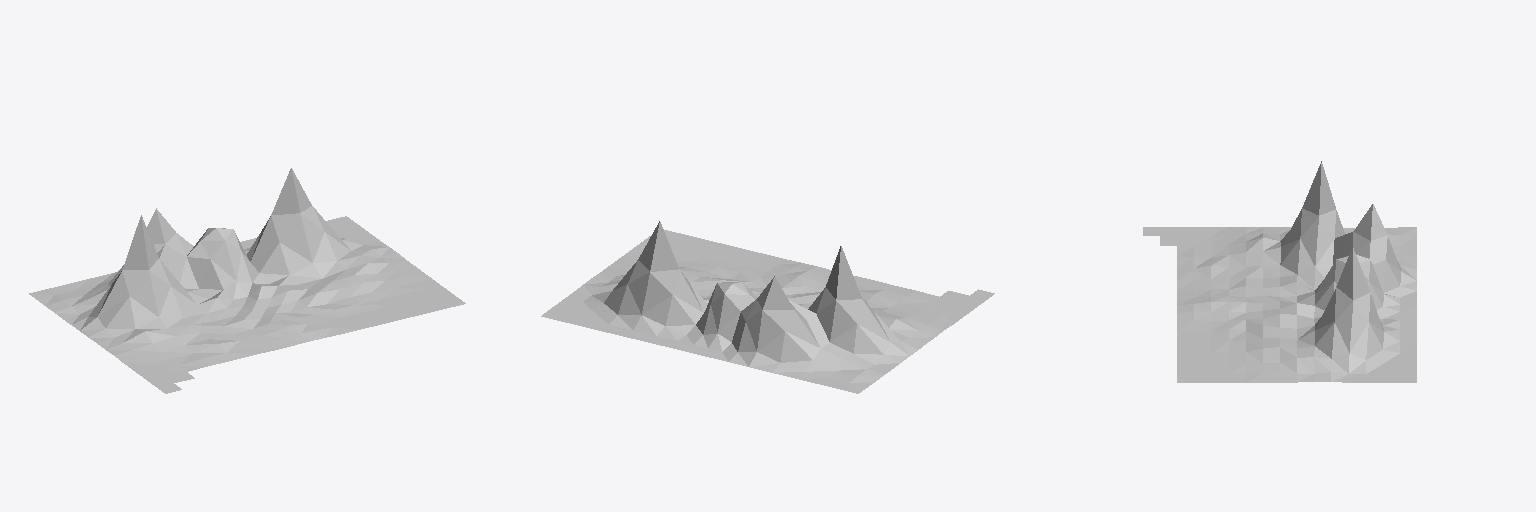
Rendered from one side.obj.
3 views of the same model, side by side, from view 1: azimuth 30°, elevation 25°; view 2: azimuth 150°, elevation 25°; view 3: azimuth 270°, elevation 25° (orthographic).
Parts seen in each view (by area): view 1: polySurface1 Mesh; view 2: polySurface1 Mesh; view 3: polySurface1 Mesh.
Boxes of the visible parts, x1=… form: polySurface1 Mesh: x1=29, y1=168, x2=465, y2=393; polySurface1 Mesh: x1=541, y1=221, x2=994, y2=393; polySurface1 Mesh: x1=1143, y1=161, x2=1416, y2=382.
Size of the model in its own units: 21.26 by 6.3 by 15.86.